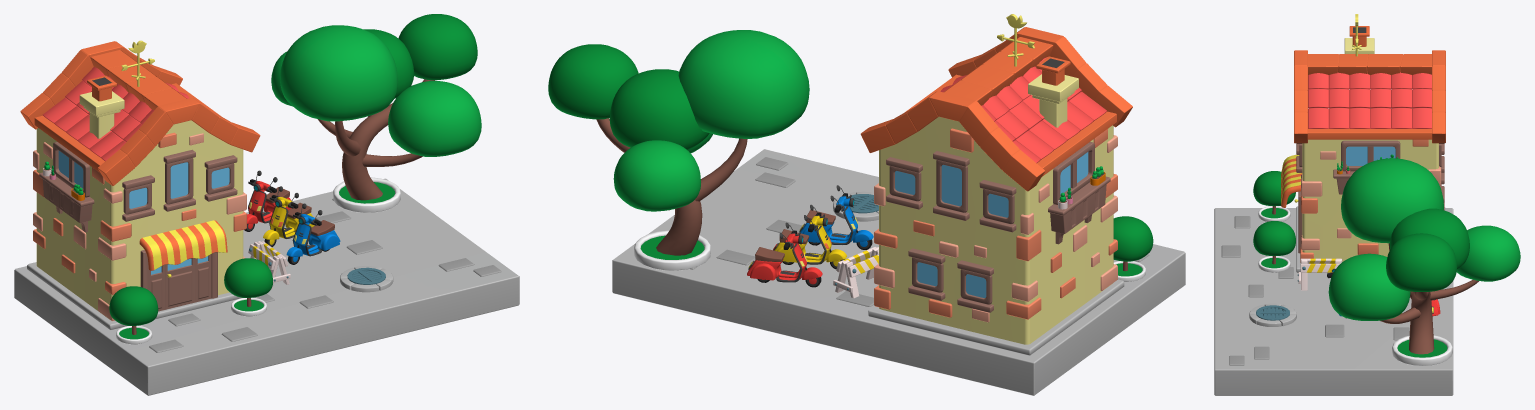
Rendered from Town_Island_6.glb.
The picture shows the model from 3 angles, left to right: view 1: azimuth 30°, elevation 25°; view 2: azimuth 150°, elevation 25°; view 3: azimuth 270°, elevation 25°; orthographic projection. The views are drawn at different scales.
Parts seen in each view (by area): view 1: Town_6_House_1, Town_6_Base_1, Town_6_Tree_1, Town_6_Tree_2, Town_6_Tree_3, Town_6_Ial_6_Scooter_3, Town_6_Ial_6_Scooter_2, Town_6_Ial_6_Scooter_1, Town_6_Hatch_1, Town_6_Ial_6_Road_Fence_1; view 2: Town_6_House_1, Town_6_Base_1, Town_6_Tree_1, Town_6_Ial_6_Scooter_1, Town_6_Tree_2, Town_6_Ial_6_Scooter_3, Town_6_Ial_6_Scooter_2, Town_6_Ial_6_Road_Fence_2, Town_6_Hatch_1; view 3: Town_6_Base_1, Town_6_House_1, Town_6_Tree_1, Town_6_Tree_3, Town_6_Tree_2, Town_6_Hatch_1, Town_6_Ial_6_Road_Fence_1.
Boxes of the visible parts, box(x1,y1,x2,y2) form: Town_6_House_1: box(20, 41, 260, 330); Town_6_Base_1: box(14, 178, 519, 395); Town_6_Tree_1: box(271, 14, 481, 212); Town_6_Tree_2: box(109, 286, 158, 344); Town_6_Tree_3: box(224, 258, 272, 316); Town_6_Ial_6_Scooter_3: box(286, 203, 340, 264); Town_6_Ial_6_Scooter_2: box(263, 186, 314, 246); Town_6_Ial_6_Scooter_1: box(244, 170, 291, 231); Town_6_Hatch_1: box(340, 266, 393, 292); Town_6_Ial_6_Road_Fence_1: box(248, 241, 290, 288); Town_6_House_1: box(860, 27, 1132, 355); Town_6_Base_1: box(612, 149, 1185, 395); Town_6_Tree_1: box(548, 30, 809, 270); Town_6_Ial_6_Scooter_1: box(747, 222, 822, 287); Town_6_Tree_2: box(1113, 216, 1153, 281); Town_6_Ial_6_Scooter_3: box(799, 185, 873, 249); Town_6_Ial_6_Scooter_2: box(773, 204, 846, 269); Town_6_Ial_6_Road_Fence_2: box(833, 247, 878, 298); Town_6_Hatch_1: box(833, 191, 878, 221); Town_6_Base_1: box(1214, 208, 1453, 395); Town_6_House_1: box(1281, 26, 1445, 272); Town_6_Tree_1: box(1328, 158, 1520, 365); Town_6_Tree_3: box(1253, 221, 1295, 272); Town_6_Tree_2: box(1253, 171, 1295, 221); Town_6_Hatch_1: box(1249, 303, 1296, 326); Town_6_Ial_6_Road_Fence_1: box(1297, 258, 1342, 290).
Size of the model in its own units: 17.6 by 10.67 by 11.88.
18 materials, 18 textured.
